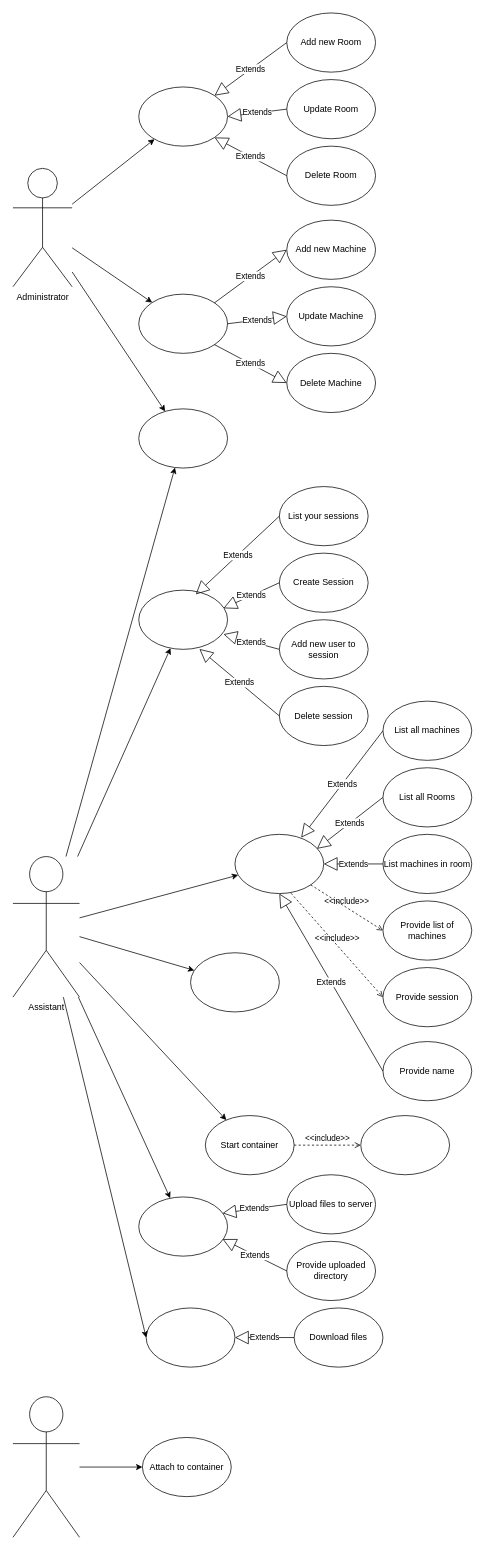
Image size: 485x1566. Some labels were removed from this diagram. The shapes that lost their labels are listed below. From the top down, each one's centre as x and y in pixels, then its label:
(183,116): Organize Rooms
(183,323): Organize Machines
(183,438): Login
(183,619): Manage Sessions
(279,864): Create inventory
(234,982): Build image
(405,1145): Close container
(183,1226): Push files
(190,1337): Pull files
(46,1466): Ucenik
